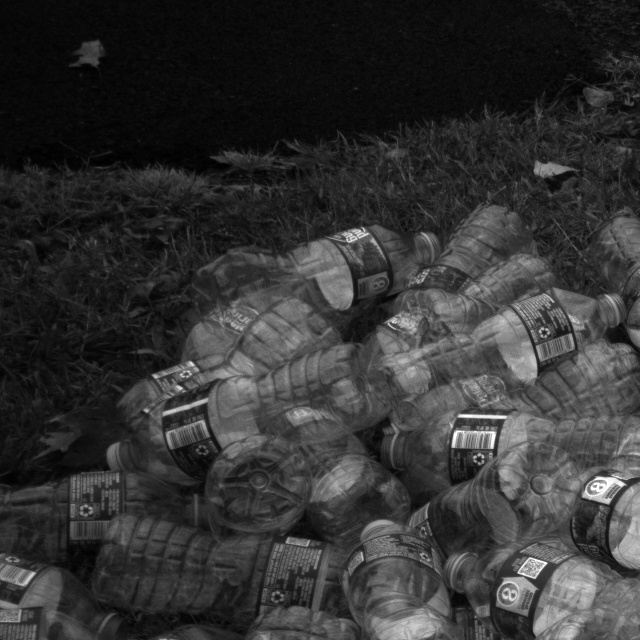bottle: (83, 510, 423, 635), (97, 331, 373, 474), (381, 287, 618, 415), (193, 222, 440, 325), (385, 405, 640, 498), (427, 532, 639, 640), (0, 461, 211, 567), (334, 507, 467, 640), (532, 469, 640, 597), (428, 204, 522, 305), (586, 211, 640, 358)
